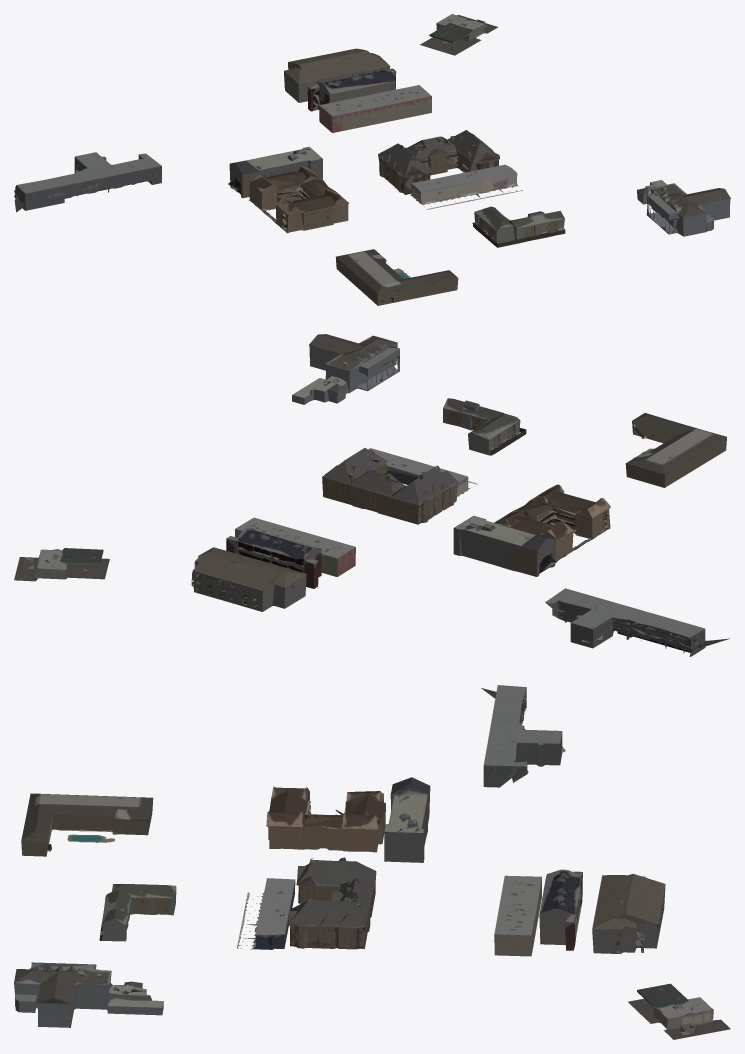
File: t_-2_-4.coat.glb
3 views of the same model, one above another, from view 1: azimuth 30°, elevation 25°; view 2: azimuth 150°, elevation 25°; view 3: azimuth 270°, elevation 25° (orthographic). The views are drawn at different scales.
Visible parts, largest first — view 1: far; view 2: far; view 3: far.
Part boxes in pixels (bbox=[...]): far: bbox=[14, 14, 730, 305]; far: bbox=[14, 334, 729, 656]; far: bbox=[14, 685, 730, 1039].
Bounding box in the file's own units: 296 × 17.23 × 262.
1 material, 1 textured.
